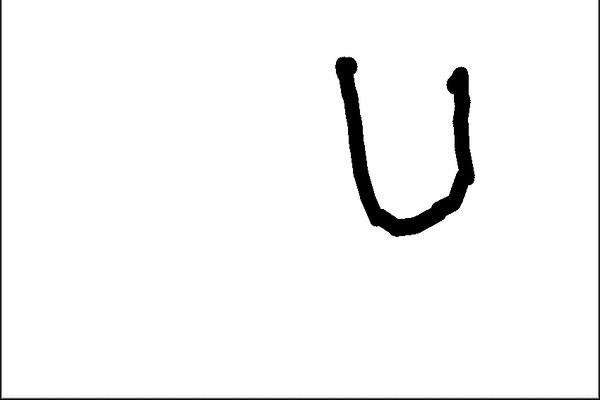U: (323, 36, 490, 250)
